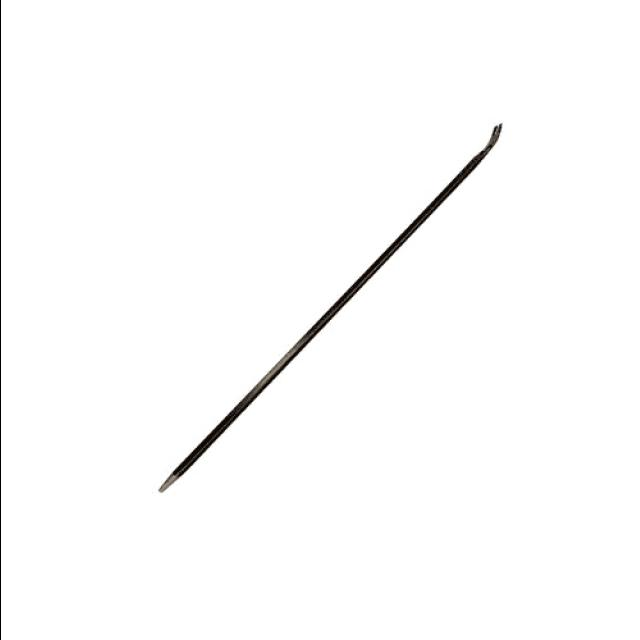Linggis: (160, 122, 503, 494)
